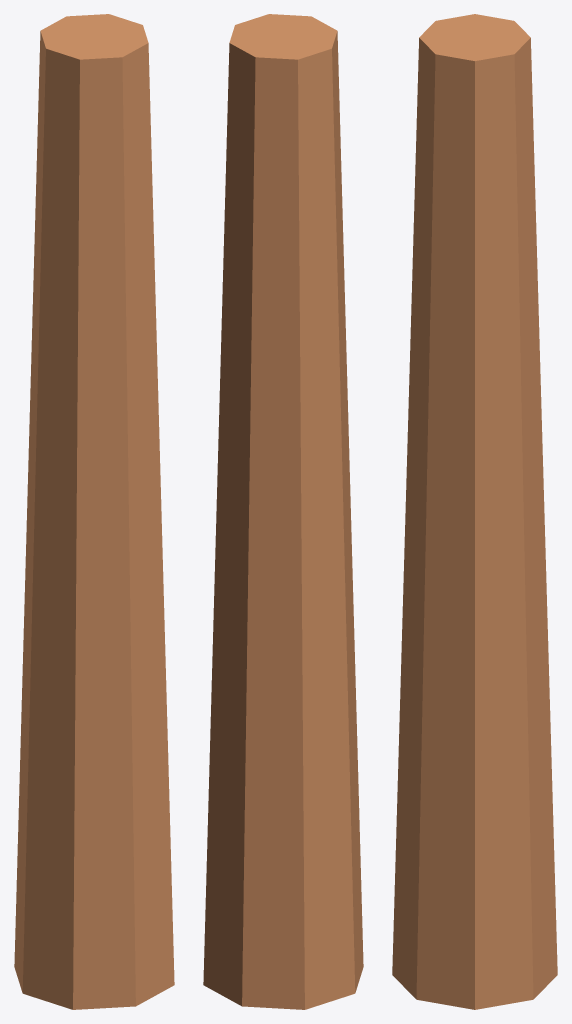
Rendered from wk_soft_tissue_forearm_v01.glb.
The picture shows the model from 3 angles, left to right: view 1: azimuth 30°, elevation 25°; view 2: azimuth 150°, elevation 25°; view 3: azimuth 270°, elevation 25°; orthographic projection.
Parts seen in each view (by area): view 1: GEO_SoftTissue_forearm; view 2: GEO_SoftTissue_forearm; view 3: GEO_SoftTissue_forearm.
Part boxes in pixels (left/top/right/bottom): GEO_SoftTissue_forearm: left=14, top=14, right=174, bottom=1009; GEO_SoftTissue_forearm: left=203, top=14, right=363, bottom=1009; GEO_SoftTissue_forearm: left=392, top=14, right=557, bottom=1009.
Size of the model in its own units: 0.16 by 1 by 0.16.
